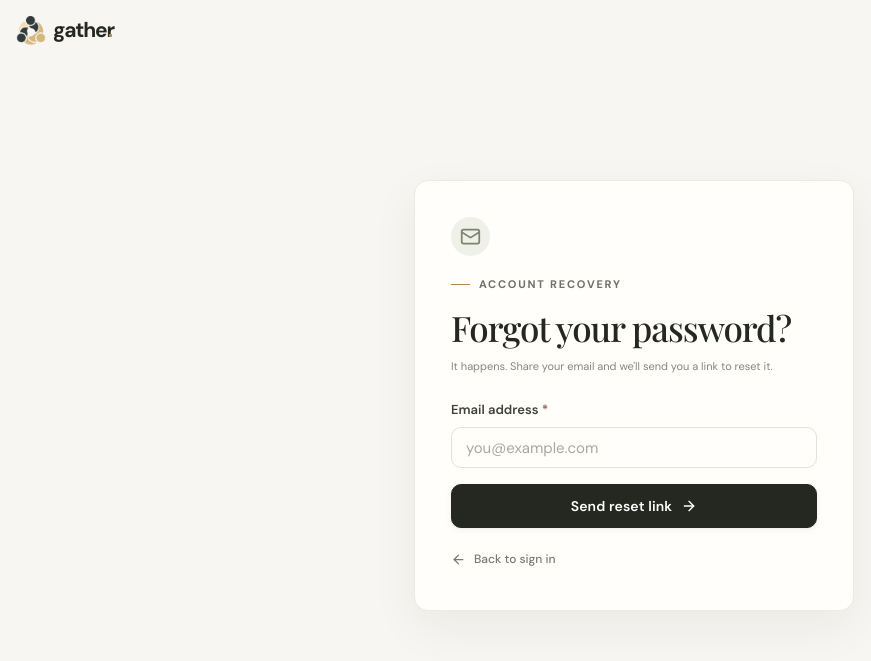
ForgotPasswordPage › shows the API error when the request fails
This screenshot has width=871, height=661.
Type "ada@example.com" into the field labelled "Email address *" at (634, 448), box [451,427,817,468]
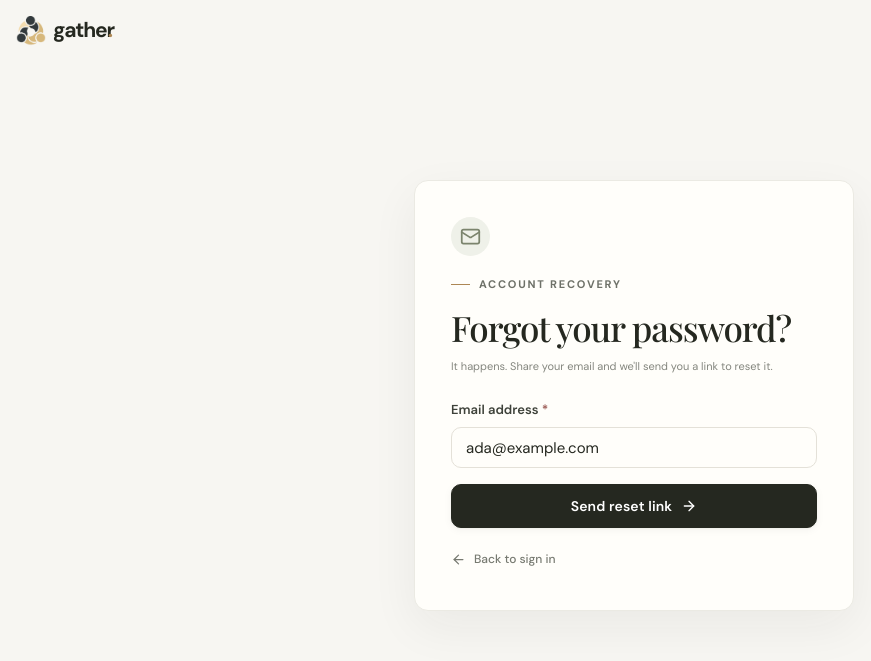
Click the button "Send reset link" at (634, 506), box [451,484,817,528]
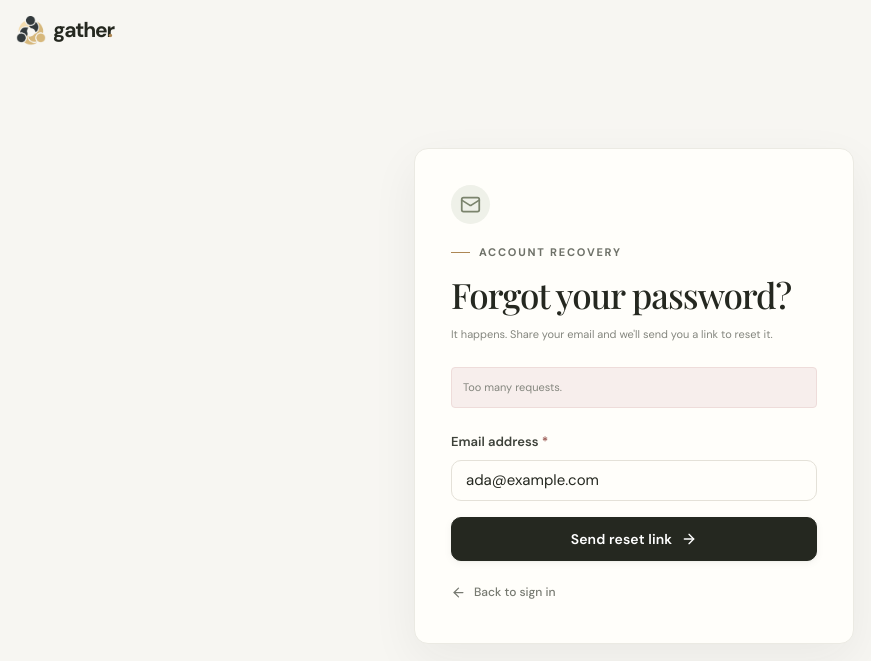
Result: the text "Too many requests." is shown at [451,367,817,408]
